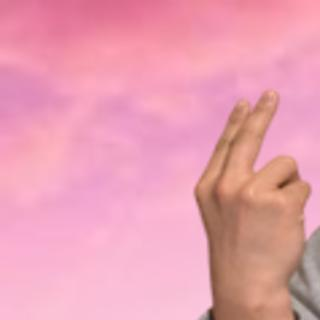DHAVE: (185, 85, 315, 304)
